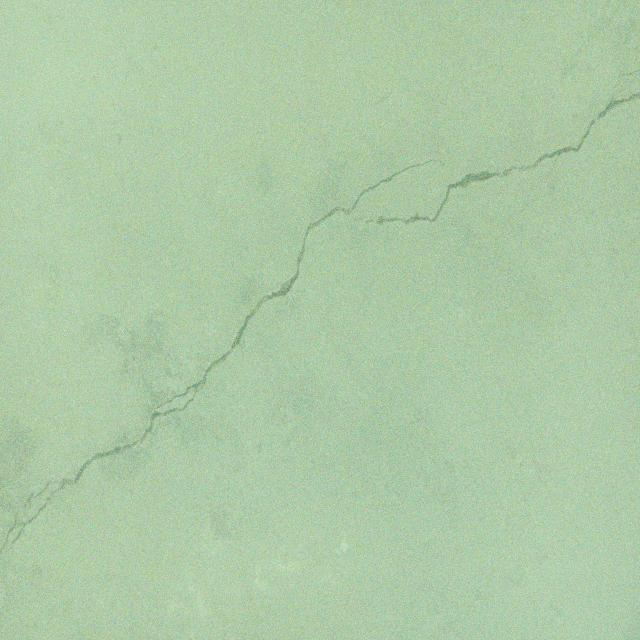crack: (0, 159, 446, 554), (354, 92, 640, 226), (613, 68, 640, 88)
